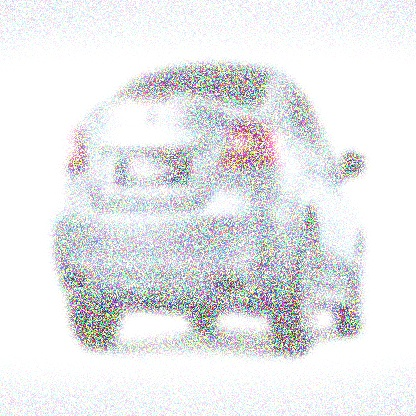Vehicle: (51, 63, 367, 354)
